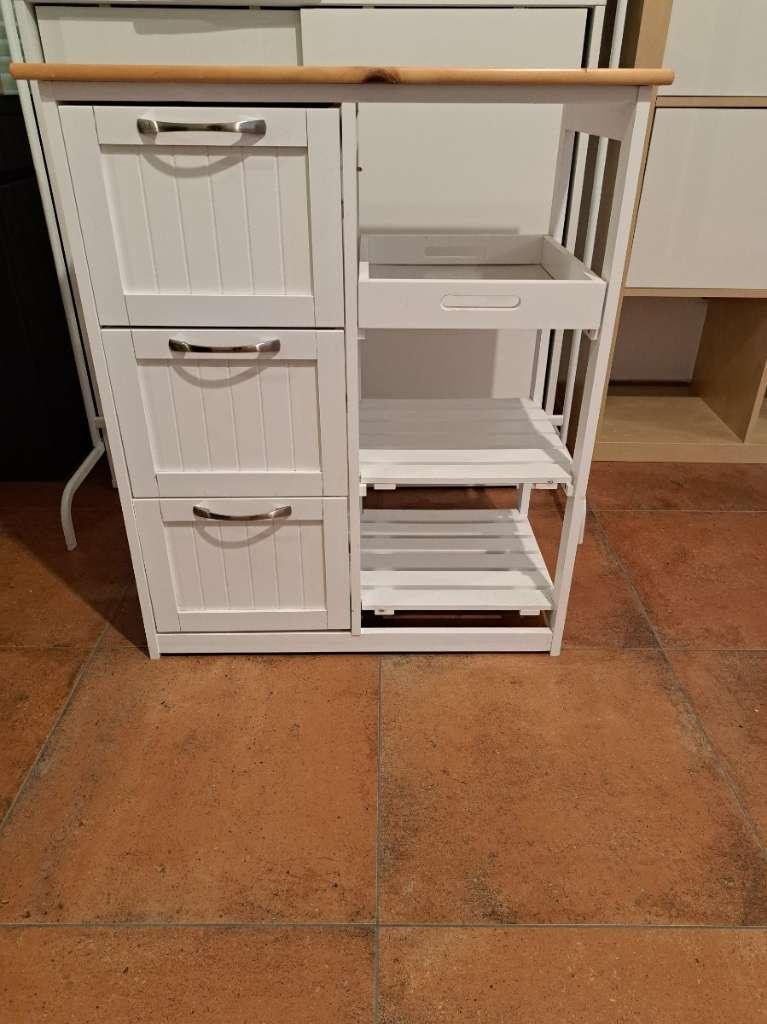cabinet_door: (71, 108, 342, 315), (121, 335, 344, 490), (133, 491, 342, 624), (359, 283, 570, 330)
handle: (133, 112, 270, 142), (167, 335, 282, 365), (189, 500, 297, 528), (435, 294, 527, 315)
